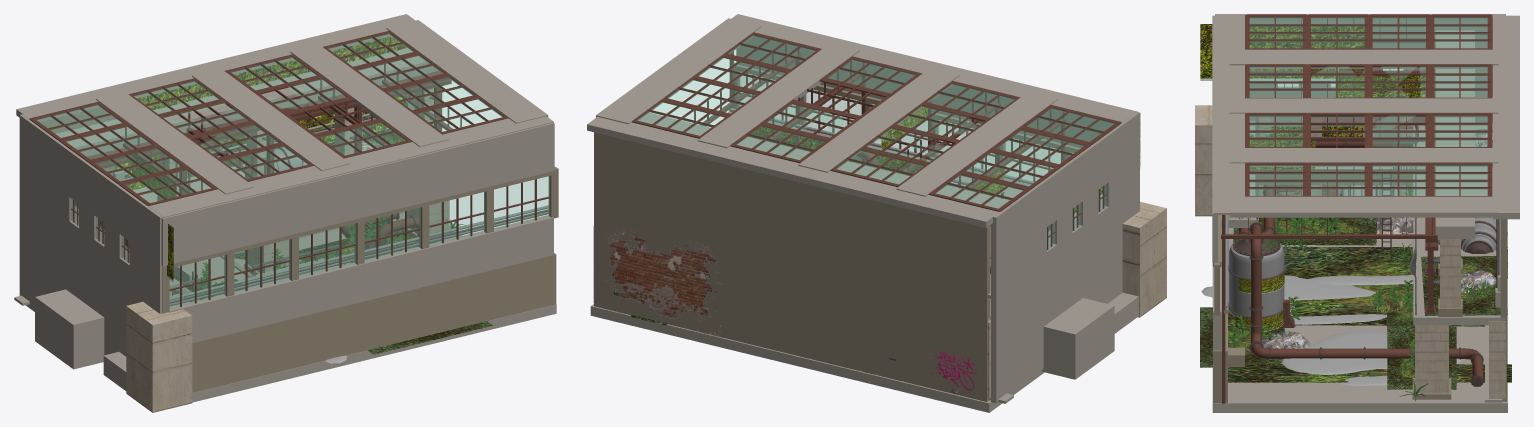
File: factory.fbx
The picture shows the model from 3 angles, left to right: view 1: azimuth 30°, elevation 25°; view 2: azimuth 150°, elevation 25°; view 3: azimuth 270°, elevation 25°; orthographic projection. The views are drawn at different scales.
Parts seen in each view (by area): view 1: pCube196, pCube106, pCube257, pCube108, pCube273, pCube240, pCube231, pCube202, pCube256, pCube272, pCube254, pCube255 (+39 smaller); view 2: pCube194, pCube196, pCube240, polySurface35, pCube231, pCube106, pCube256, polySurface40, pCube272, pCube273, pCube254, pCube255 (+25 smaller); view 3: polySurface40, pCube256, pCube196, pCube231, pCube240, pCube253, pCube254, pCube202, pCube255, polySurface33, pPlane66, pCube282 (+76 smaller).
Boxes of the visible parts, x1,y1,x2,y2 form: pCube196: (19, 114, 163, 356); pCube106: (161, 123, 554, 266); pCube257: (192, 253, 556, 392); pCube108: (169, 215, 553, 342); pCube273: (126, 300, 192, 412); pCube240: (16, 14, 415, 121); pCube231: (149, 116, 553, 217); pCube202: (56, 48, 438, 156); pCube256: (386, 20, 548, 123); pCube272: (35, 289, 104, 369); pCube254: (192, 68, 350, 170); pCube255: (290, 44, 448, 146); pCube194: (594, 132, 990, 401); pCube196: (991, 112, 1139, 403); pCube240: (587, 117, 998, 227); polySurface35: (605, 226, 722, 336); pCube231: (731, 14, 1136, 122); pCube106: (736, 36, 1138, 147); pCube256: (596, 18, 761, 124); polySurface40: (590, 304, 1044, 412); pCube272: (1042, 298, 1114, 379); pCube273: (1122, 201, 1166, 317); pCube254: (798, 67, 960, 172); pCube255: (697, 43, 859, 148); polySurface40: (1212, 219, 1507, 412); pCube256: (1229, 196, 1498, 217); pCube196: (1215, 14, 1505, 195); pCube231: (1214, 15, 1244, 214); pCube240: (1493, 15, 1519, 219); pCube253: (1229, 49, 1498, 68); pCube254: (1229, 98, 1498, 117); pCube202: (1435, 30, 1474, 238); pCube255: (1229, 148, 1498, 166); polySurface33: (1283, 247, 1507, 278); pPlane66: (1200, 24, 1364, 80); pCube282: (1306, 113, 1429, 147).
Bounding box in the file's own units: 12.63 × 7.89 × 5.36.
Materials: 16 (5 with a texture image).
